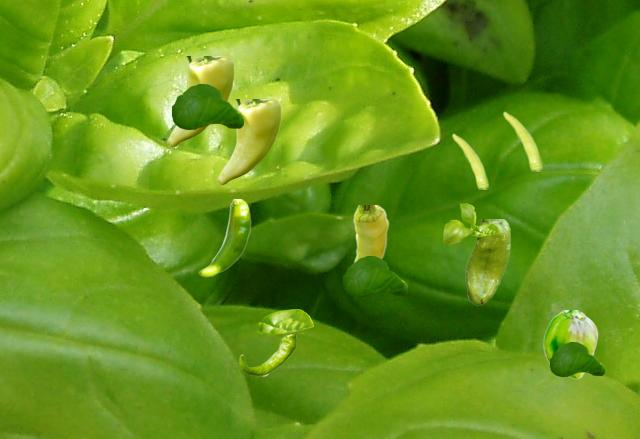green_chili: (167, 56, 233, 146), (217, 99, 280, 184), (198, 199, 250, 276), (465, 219, 509, 304), (543, 310, 597, 378), (239, 334, 297, 375), (503, 111, 541, 170), (351, 205, 388, 262), (452, 133, 487, 188)
